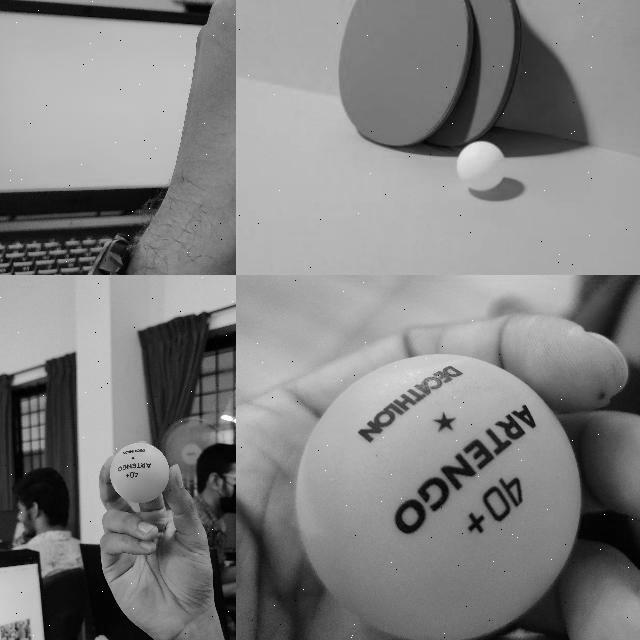ping-pong-ball: (295, 354, 585, 639), (110, 443, 170, 501), (457, 140, 503, 192)
